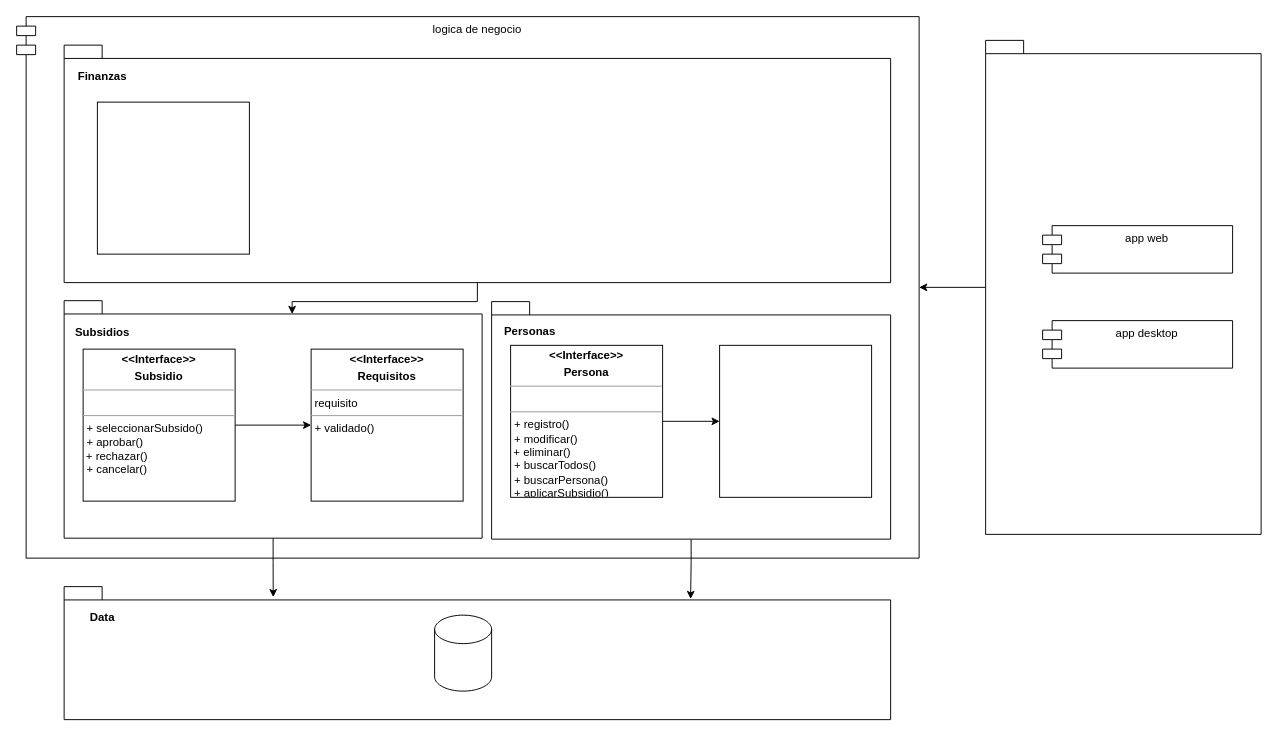
Image size: 1278x736. Some labels were removed from this diagram. Here are the shapes that lost their labels. From the top down, the centre of each, then its label:
(172,177): <<Interface>> Pagos + buscarPagos() + realizarPagos() + obtenerPagosPorInscrito
(795,420): <<Interface>> A sesor + inisiarSesion() + cerrarSesion()
(463,652): SQL Server
